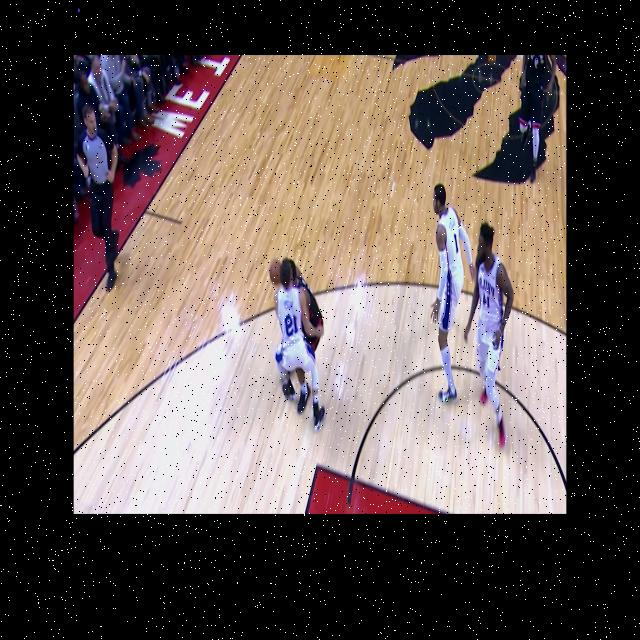Foul: (270, 237, 320, 452)
